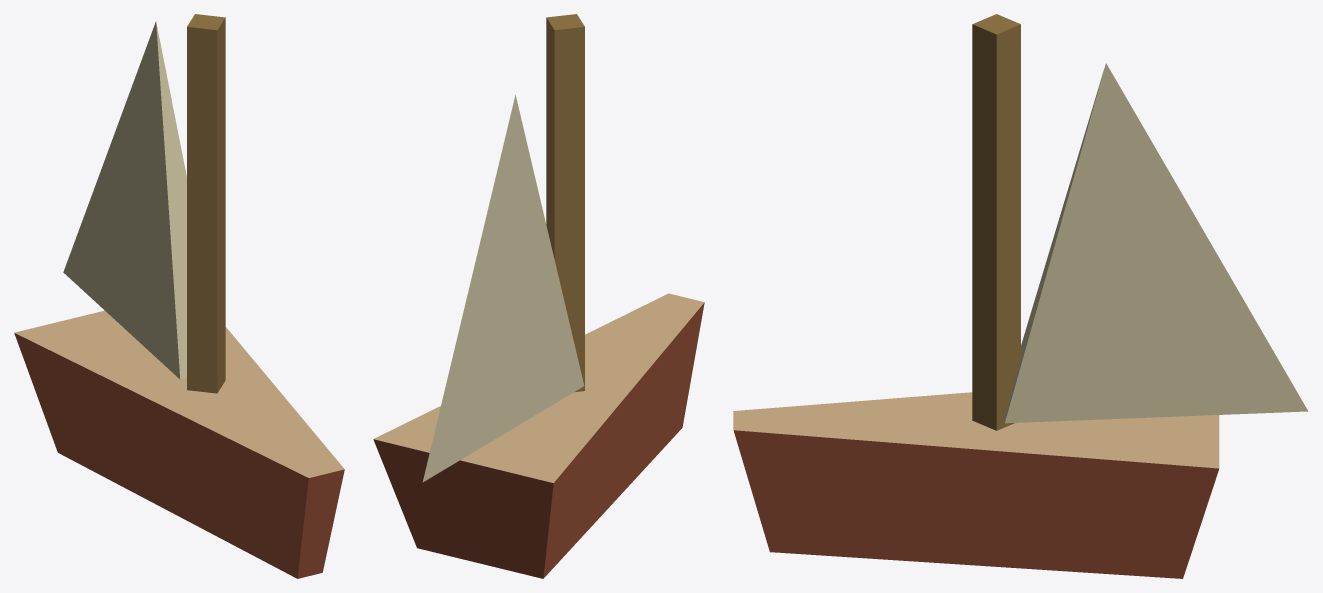
Rendered from sailboat.glb.
3 views of the same model, side by side, from view 1: azimuth 30°, elevation 25°; view 2: azimuth 150°, elevation 25°; view 3: azimuth 270°, elevation 25° (orthographic). The views are drawn at different scales.
Visible parts, largest first — view 1: Hull, Sail, Mast; view 2: Hull, Sail, Mast; view 3: Hull, Sail, Mast.
Part boxes in pixels (x1,y1,x2,y2): Hull: (14, 310, 344, 578); Sail: (63, 21, 186, 379); Mast: (187, 14, 225, 393); Hull: (373, 293, 704, 578); Sail: (422, 95, 584, 482); Mast: (546, 14, 584, 392); Hull: (733, 392, 1219, 578); Sail: (1004, 63, 1308, 423); Mast: (972, 14, 1020, 430).
Size of the model in its own units: 0.56 by 1.42 by 1.42.
